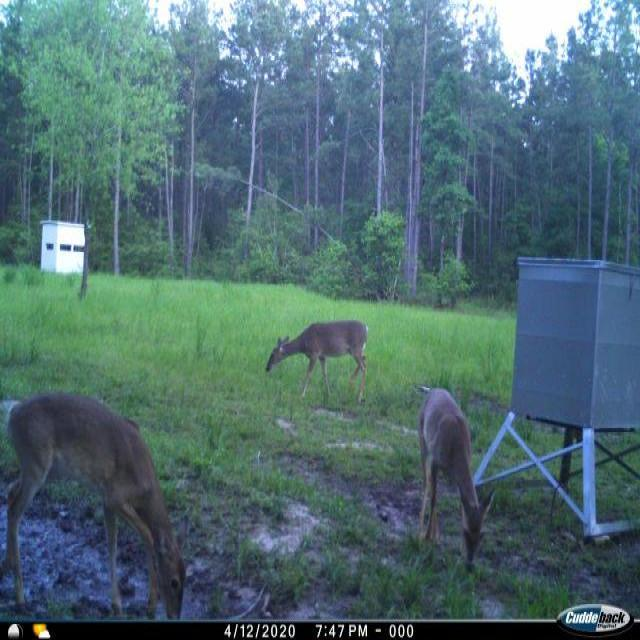deer: (3, 386, 197, 618), (412, 385, 496, 570), (259, 315, 376, 409)
